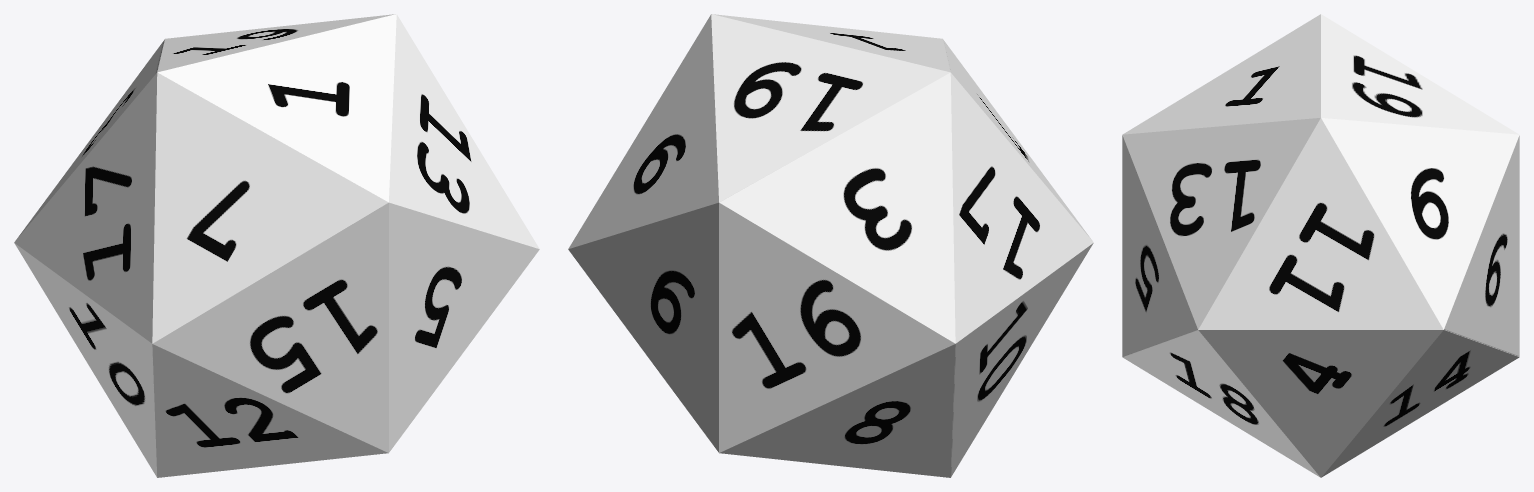
Rendered from icosahedron.glb.
3 views of the same model, side by side, from view 1: azimuth 30°, elevation 25°; view 2: azimuth 150°, elevation 25°; view 3: azimuth 270°, elevation 25° (orthographic). The views are drawn at different scales.
Visible parts, largest first — view 1: icosahedron; view 2: icosahedron; view 3: icosahedron.
Part boxes in pixels (left/top/right/bottom): icosahedron: left=14, top=14, right=539, bottom=477; icosahedron: left=568, top=14, right=1093, bottom=477; icosahedron: left=1122, top=14, right=1519, bottom=477.
Bounding box in the file's own units: 1.7 × 1.7 × 1.7.
1 material, 1 textured.
